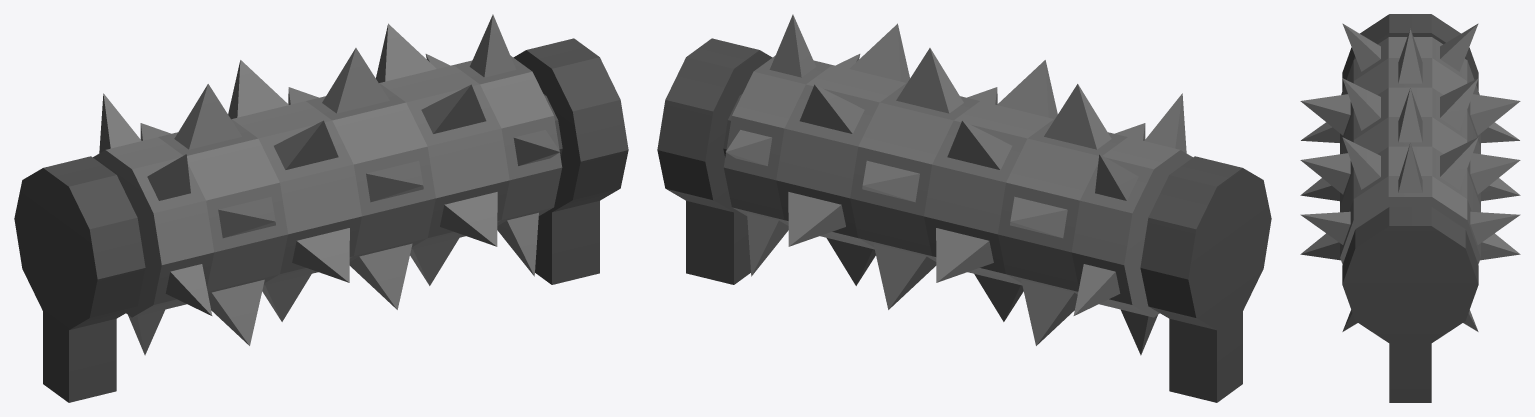
The model's file is Rotating_Spines.fbx.
3 views of the same model, side by side, from view 1: azimuth 30°, elevation 25°; view 2: azimuth 150°, elevation 25°; view 3: azimuth 270°, elevation 25° (orthographic). The views are drawn at different scales.
Parts seen in each view (by area): view 1: Rotating_Spine, Rotating_Spines; view 2: Rotating_Spine, Rotating_Spines; view 3: Rotating_Spine, Rotating_Spines.
Boxes of the visible parts, left/top/right/bottom form: Rotating_Spine: left=93, top=14, right=562, bottom=355; Rotating_Spines: left=14, top=38, right=628, bottom=402; Rotating_Spine: left=723, top=14, right=1192, bottom=355; Rotating_Spines: left=657, top=38, right=1271, bottom=402; Rotating_Spine: left=1300, top=23, right=1520, bottom=331; Rotating_Spines: left=1342, top=14, right=1478, bottom=402.
Bounding box in the file's own units: 142 × 69.72 × 62.43.
1 material, 1 textured.
